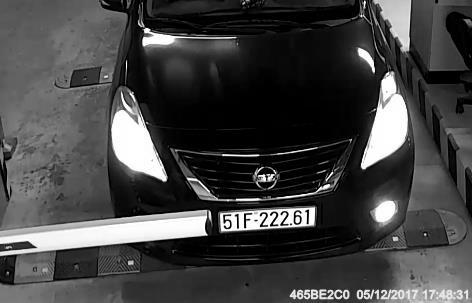License-plate: (209, 197, 329, 240)
